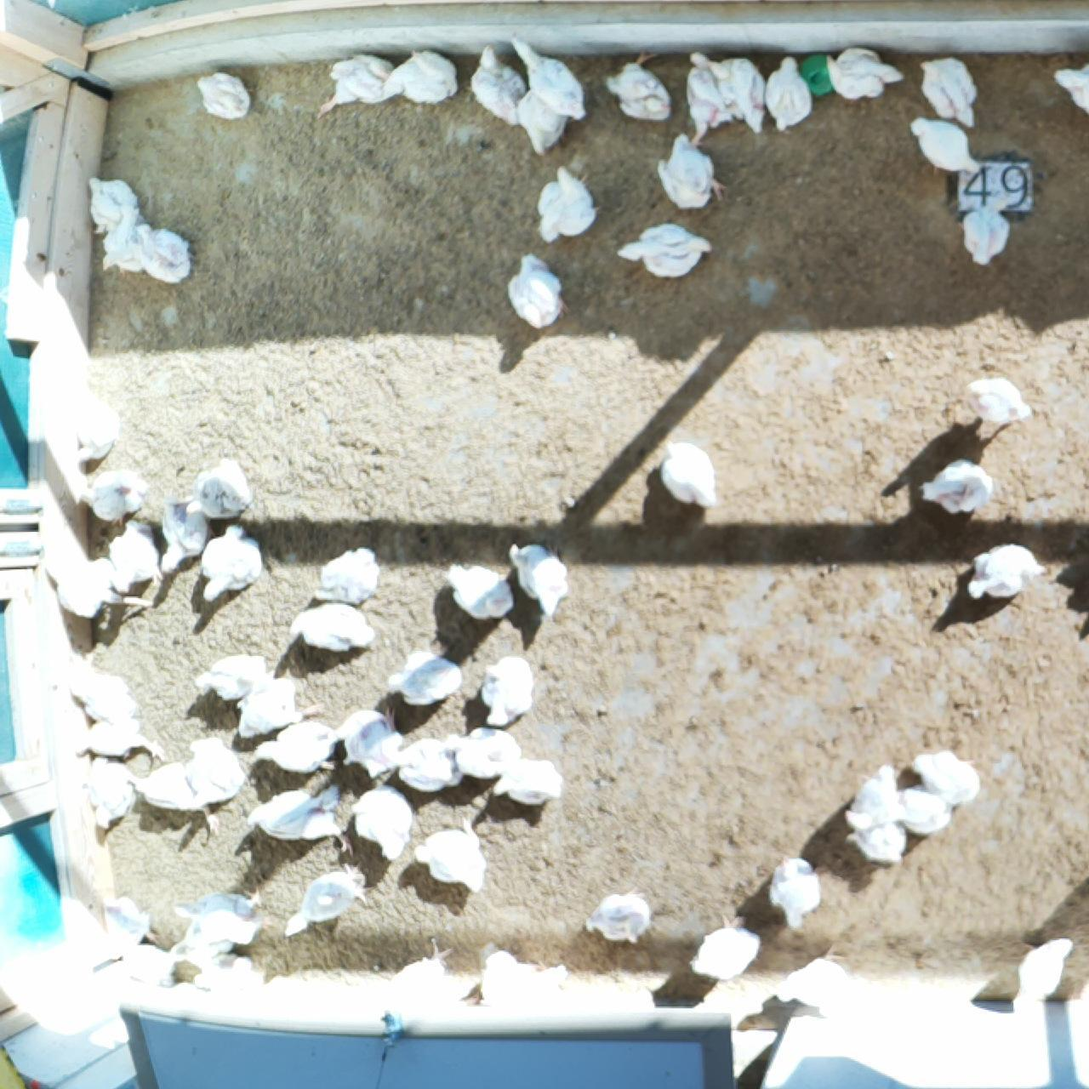chicken: (247, 790, 356, 852), (512, 37, 590, 118), (279, 870, 371, 938), (774, 955, 866, 1023), (1009, 933, 1079, 1021), (537, 162, 606, 246), (709, 46, 773, 134), (509, 538, 579, 617), (656, 132, 723, 214), (481, 950, 571, 1011), (200, 523, 267, 603), (391, 945, 473, 1009), (688, 920, 767, 986), (320, 52, 402, 115), (414, 827, 492, 893), (762, 852, 823, 934), (384, 45, 462, 109), (347, 789, 419, 858), (507, 251, 569, 331), (915, 458, 996, 519), (470, 43, 528, 128), (619, 226, 715, 277), (969, 539, 1043, 605), (386, 648, 461, 711), (921, 59, 988, 129), (79, 758, 141, 833), (289, 602, 380, 653), (253, 720, 333, 778), (656, 438, 718, 512), (236, 676, 302, 744), (607, 52, 670, 122), (72, 665, 143, 727), (174, 895, 262, 945), (580, 891, 658, 947), (825, 47, 904, 102), (311, 547, 388, 603), (481, 650, 533, 732), (198, 656, 277, 709), (334, 712, 401, 774), (48, 556, 117, 616), (154, 497, 207, 575), (967, 369, 1032, 432), (188, 741, 245, 812), (682, 49, 724, 145), (447, 561, 512, 621), (912, 117, 980, 174), (109, 520, 162, 592), (449, 729, 522, 780), (137, 216, 189, 287), (962, 196, 1013, 268), (139, 767, 198, 829), (195, 456, 253, 519), (768, 57, 813, 137), (845, 762, 899, 827), (74, 719, 161, 759), (912, 752, 981, 802), (495, 760, 564, 809), (393, 742, 459, 792), (519, 90, 568, 157), (195, 955, 267, 1000), (898, 785, 952, 843), (171, 919, 234, 968), (845, 821, 915, 865), (91, 468, 147, 521), (76, 399, 118, 469), (103, 895, 157, 949), (91, 176, 139, 233), (195, 72, 252, 120), (115, 945, 177, 989), (105, 214, 144, 274), (1054, 60, 1089, 118)
